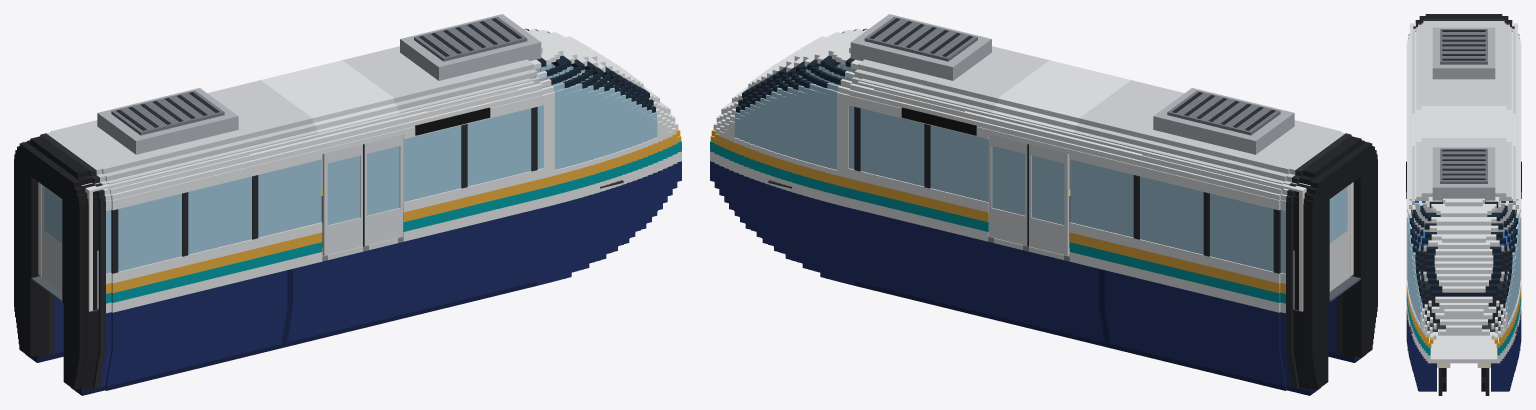
The model's file is las_vegas_front.obj.
3 renders of one model, left to right at view 1: azimuth 30°, elevation 25°; view 2: azimuth 150°, elevation 25°; view 3: azimuth 270°, elevation 25°, orthographic. The views are drawn at different scales.
Parts seen in each view (by area): view 1: SHELL, SHELL_roof, SHELL_diaphragm, EXTERNAL_DOOR_3_CG_DR1_TOGGLE_TL_-0.79_X, EXTERNAL_DOOR_4_CG_DR1_TOGGLE_TL_0.79_X, SHELL_ceiling, CONNECTING_DOOR_1_CG_CR_TOGGLE_TL_0.98_Z, SHELL_end, SHELL_sign; view 2: SHELL, SHELL_roof, SHELL_diaphragm, EXTERNAL_DOOR_6_CG_DL1_TOGGLE_TL_-0.79_X, EXTERNAL_DOOR_7_CG_DL1_TOGGLE_TL_0.79_X, SHELL_ceiling, CONNECTING_DOOR_1_CG_CR_TOGGLE_TL_0.98_Z, SHELL_end, SHELL_sign; view 3: SHELL, SHELL_roof, SHELL_ceiling, SHELL_front, SHELL_bench, BOGEY_FRONT, SHELL_floor, HEADLIGHT_1.
Boxes of the visible parts, x1,y1,x2,y2 form: SHELL: (25,28,681,395); SHELL_roof: (97,14,541,154); SHELL_diaphragm: (14,142,86,389); EXTERNAL_DOOR_3_CG_DR1_TOGGLE_TL_-0.79_X: (322,144,364,255); EXTERNAL_DOOR_4_CG_DR1_TOGGLE_TL_0.79_X: (364,135,403,245); SHELL_ceiling: (25,78,534,191); CONNECTING_DOOR_1_CG_CR_TOGGLE_TL_0.98_Z: (42,185,62,291); SHELL_end: (22,141,92,311); SHELL_sign: (415,107,490,135); SHELL: (710,28,1366,395); SHELL_roof: (850,14,1294,154); SHELL_diaphragm: (1305,142,1377,389); EXTERNAL_DOOR_6_CG_DL1_TOGGLE_TL_-0.79_X: (1027,144,1069,255); EXTERNAL_DOOR_7_CG_DL1_TOGGLE_TL_0.79_X: (988,135,1027,245); SHELL_ceiling: (857,78,1366,191); CONNECTING_DOOR_1_CG_CR_TOGGLE_TL_0.98_Z: (1329,185,1349,291); SHELL_end: (1299,141,1369,311); SHELL_sign: (901,107,976,135); SHELL: (1406,14,1521,391); SHELL_roof: (1432,27,1495,200); SHELL_ceiling: (1409,24,1518,200); SHELL_front: (1418,251,1509,322); SHELL_bench: (1411,203,1516,251); BOGEY_FRONT: (1438,368,1489,395); SHELL_floor: (1409,200,1518,332); HEADLIGHT_1: (1437,363,1490,367).
Size of the model in its own units: 13.16 by 4.85 by 2.66.
Materials: 1 (1 with a texture image).
